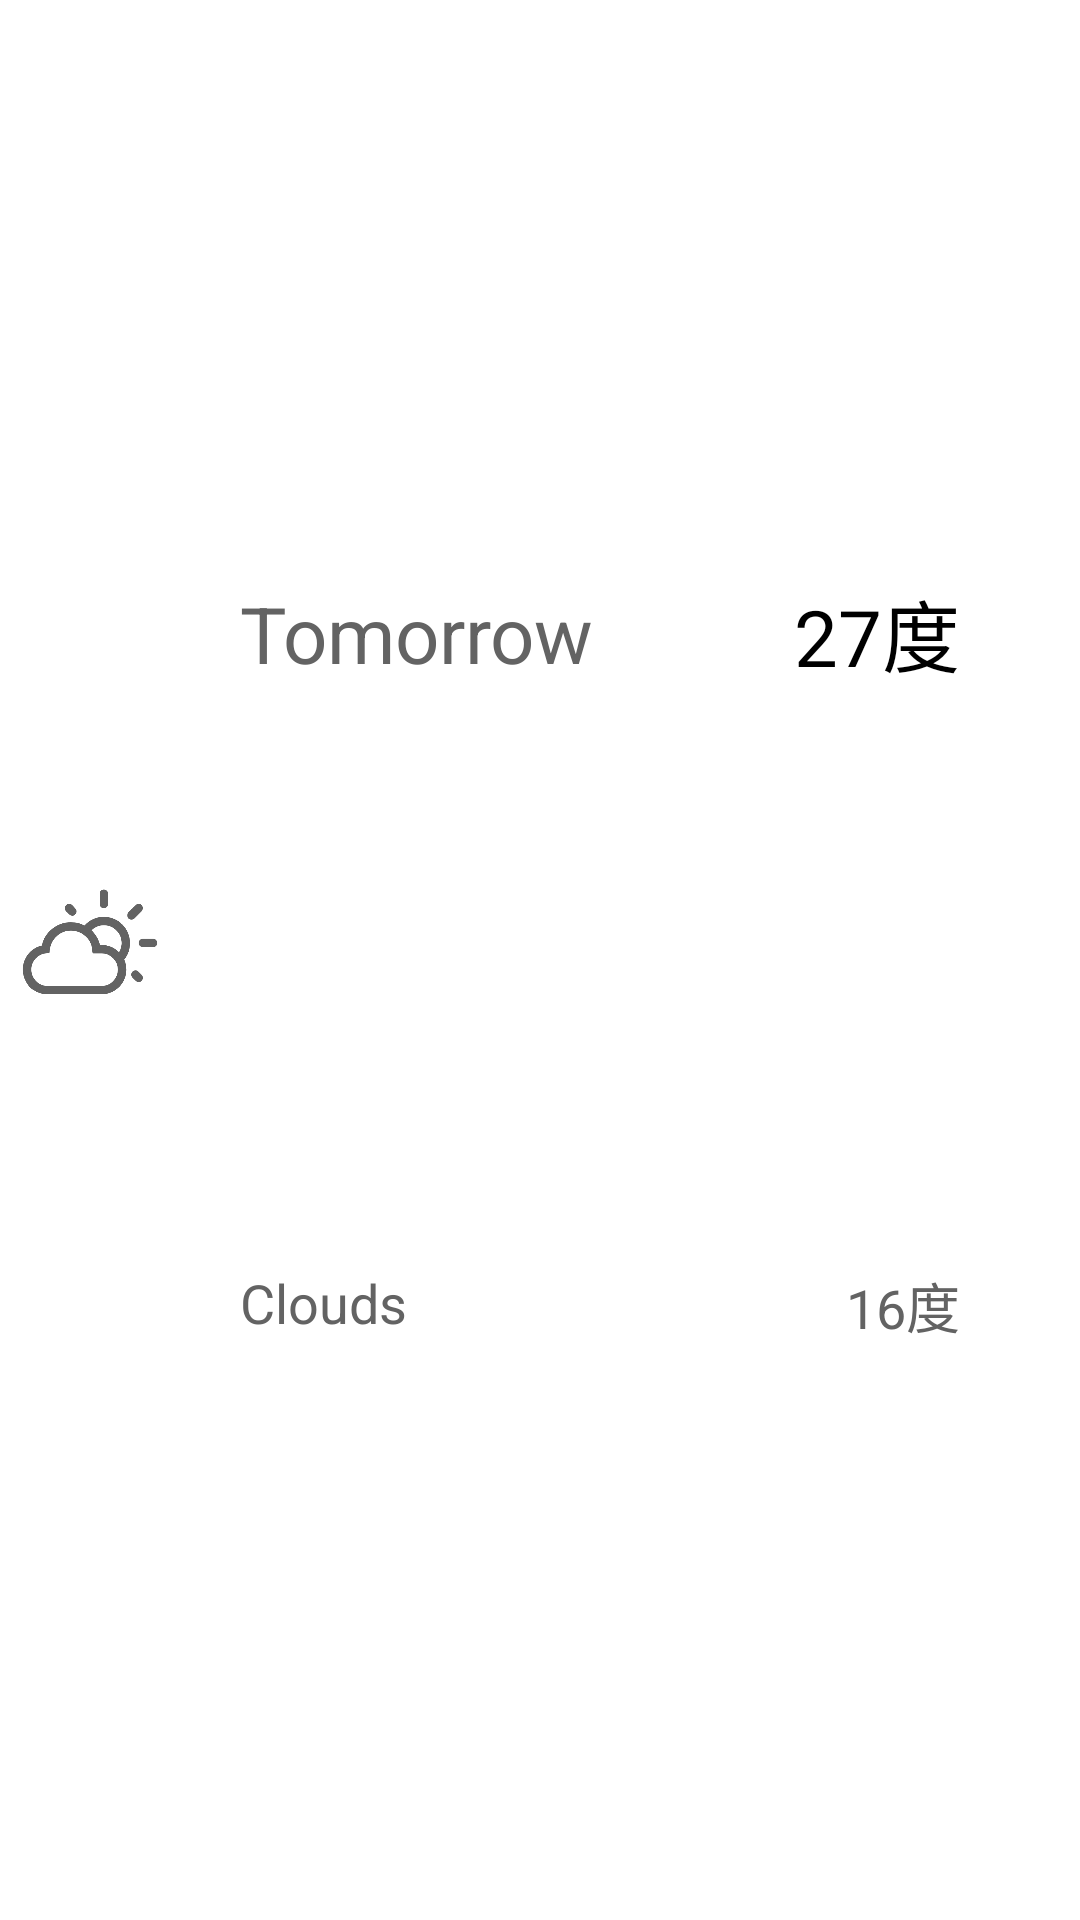

Point at icon controls on the screen. Image size 1080px×1920px, points as [x,y].
daycloudy: [90,941]
